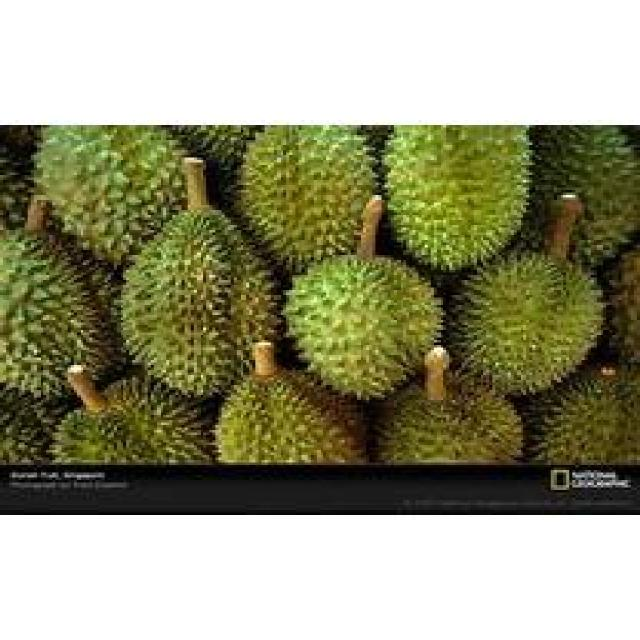fruit: (99, 188, 308, 428), (0, 177, 126, 485), (270, 230, 462, 428), (430, 230, 624, 418), (218, 122, 397, 288), (372, 120, 548, 288), (200, 347, 382, 495), (354, 350, 538, 495), (517, 342, 640, 488)
